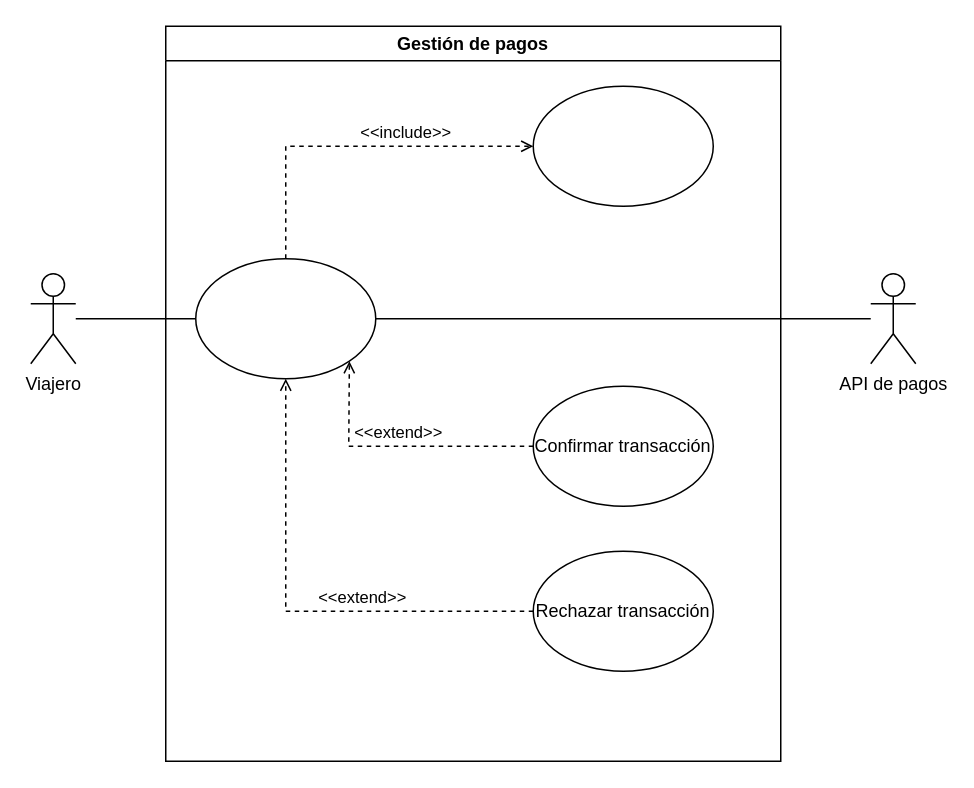
Image size: 974x788. Some labels were removed from this diagram. Each missing label, with the centre of its shape:
"Procesar pago" belongs at [285,318].
"Validar transacción" belongs at [622,145].
